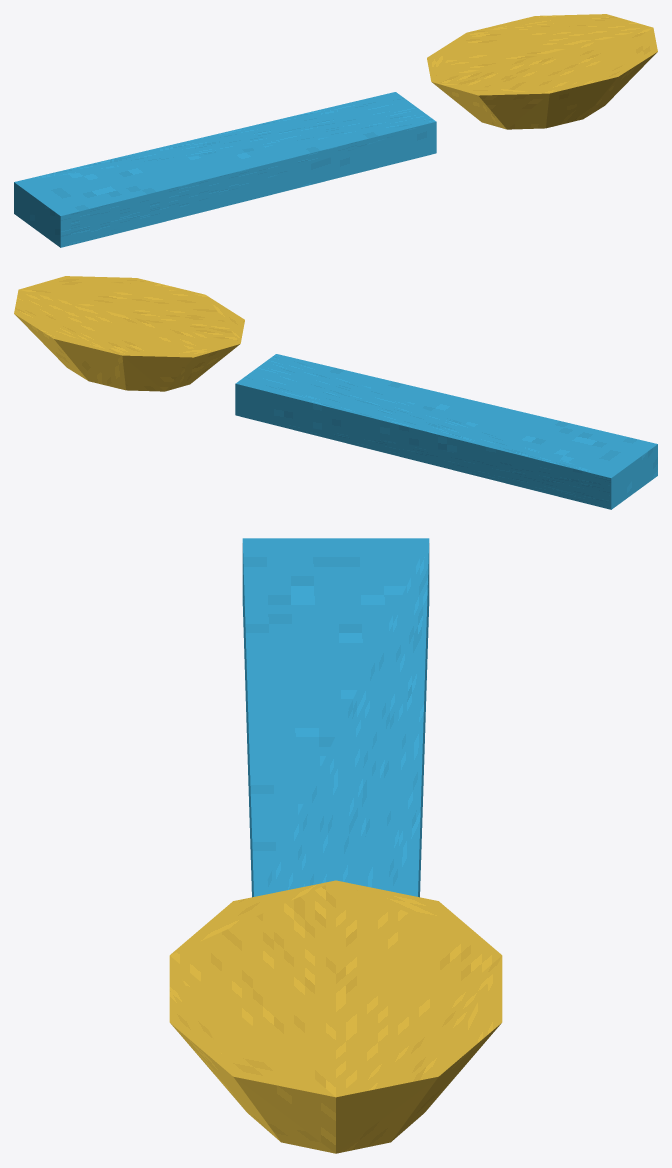
File: plastic_spoon_kids.glb
The picture shows the model from 3 angles, top to bottom: view 1: azimuth 30°, elevation 25°; view 2: azimuth 150°, elevation 25°; view 3: azimuth 270°, elevation 25°; orthographic projection. The views are drawn at different scales.
Parts seen in each view (by area): view 1: block_handle, block_bowl; view 2: block_handle, block_bowl; view 3: block_bowl, block_handle.
Part boxes in pixels (x1,y1,x2,y2): block_handle: (14,92,436,247); block_bowl: (427,14,657,129); block_handle: (235,354,657,509); block_bowl: (14,276,244,391); block_bowl: (169,880,502,1153); block_handle: (242,538,429,897).
Size of the model in its own units: 0.122 by 0.01 by 0.0285.
1 material, 1 textured.
